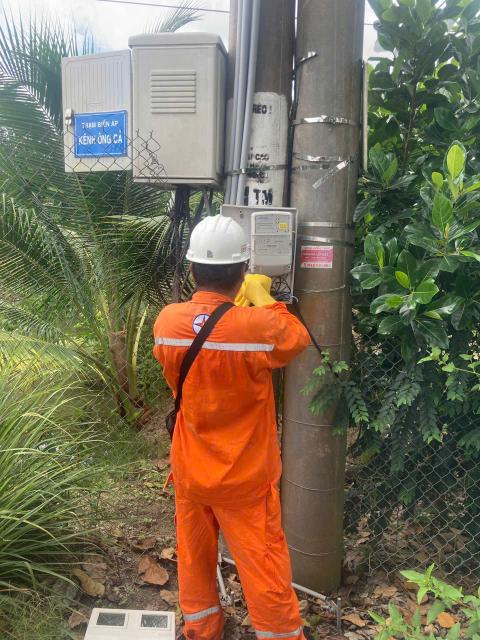gloves: (230, 273, 302, 316)
helmet: (186, 217, 256, 264)
